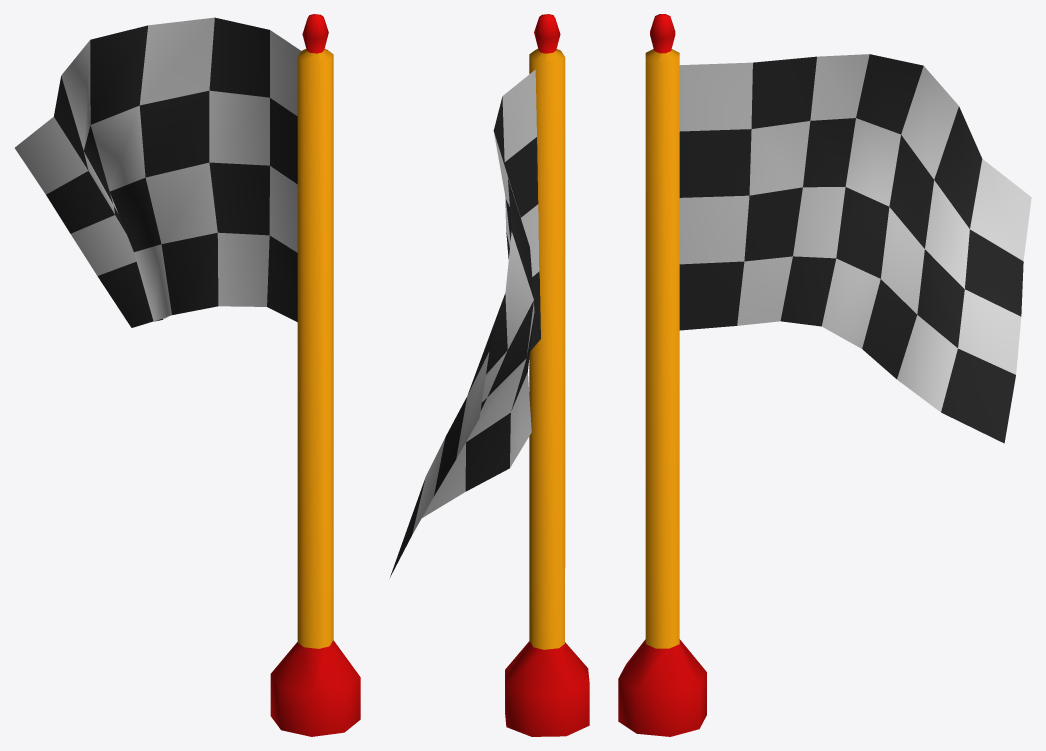
File: Flag.fbx
3 views of the same model, side by side, from view 1: azimuth 30°, elevation 25°; view 2: azimuth 150°, elevation 25°; view 3: azimuth 270°, elevation 25° (orthographic).
Parts seen in each view (by area): view 1: Flag; view 2: Flag; view 3: Flag.
Part boxes in pixels (bbox=[...]): Flag: bbox=[15, 14, 360, 736]; Flag: bbox=[389, 14, 589, 736]; Flag: bbox=[618, 14, 1031, 736].
Bounding box in the file's own units: 2.43 × 10.51 × 5.59.
